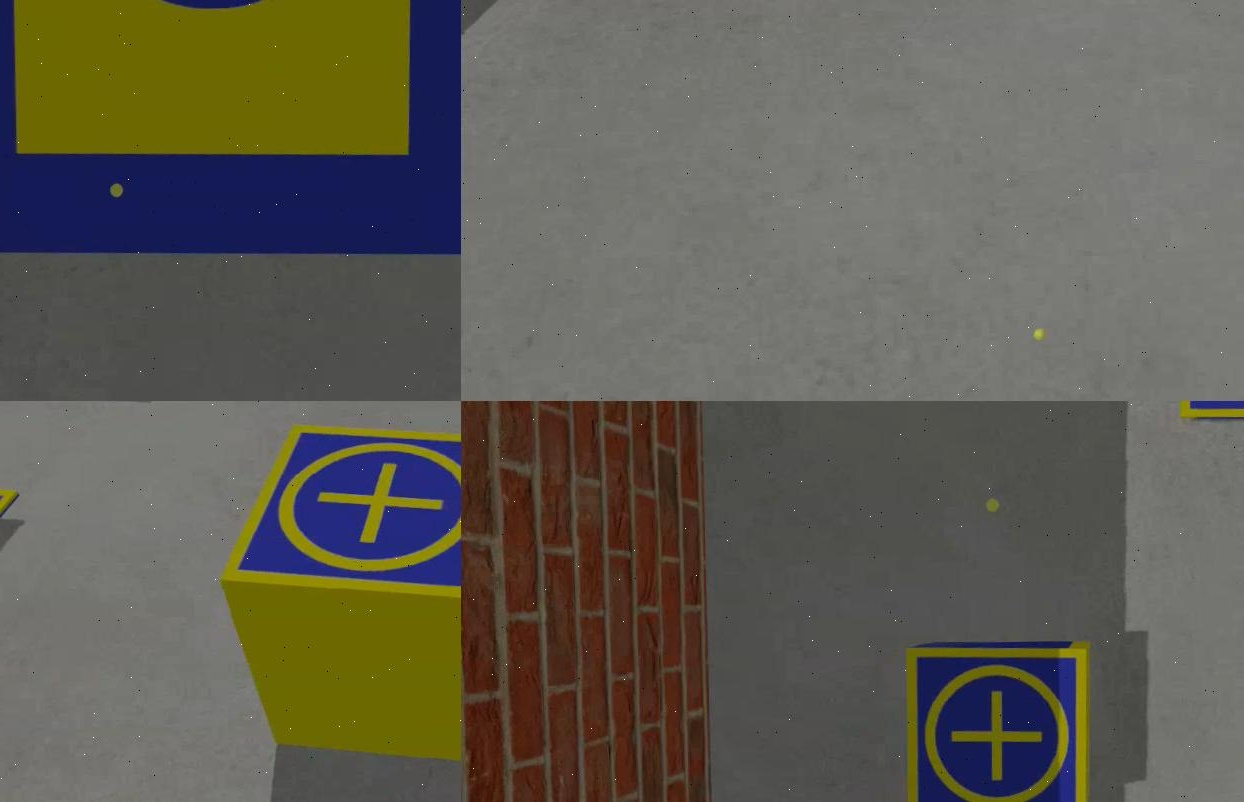large_base: (0, 1, 460, 265)
small_base: (216, 423, 460, 608), (901, 641, 1090, 802)
